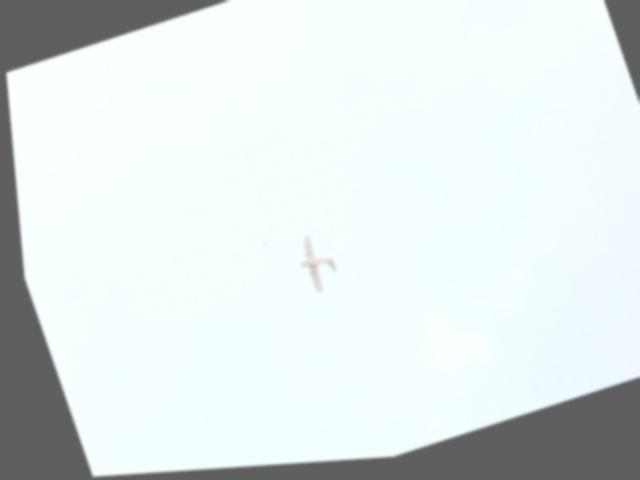uav: (286, 227, 340, 301)
